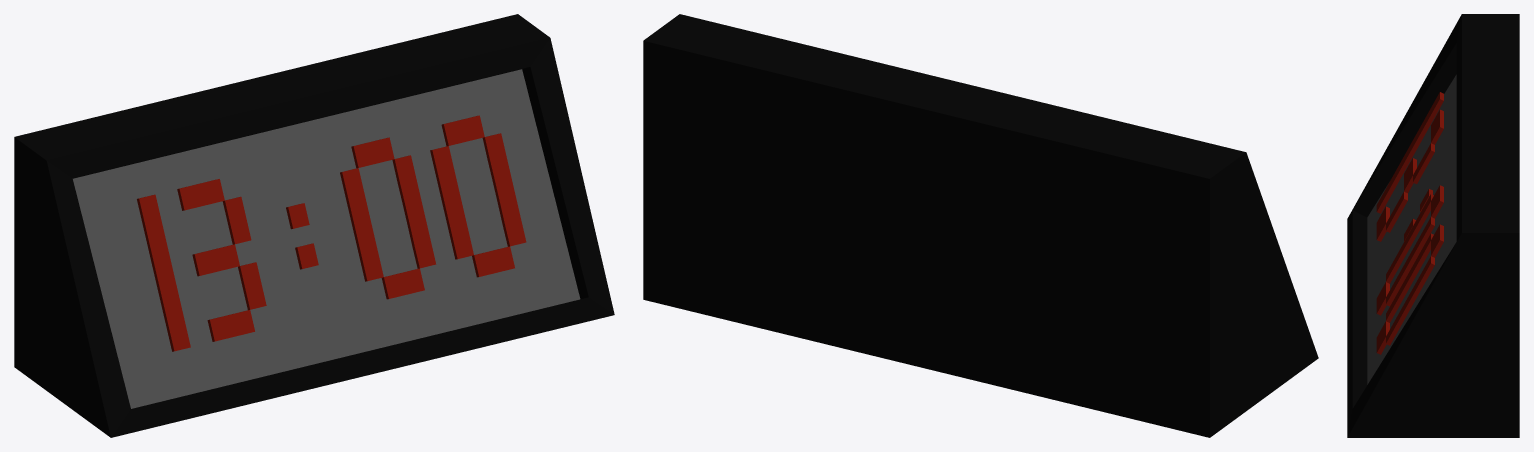
Rendered from hodiny.fbx.
3 renders of one model, left to right at view 1: azimuth 30°, elevation 25°; view 2: azimuth 150°, elevation 25°; view 3: azimuth 270°, elevation 25°, orthographic. The views are drawn at different scales.
Parts seen in each view (by area): view 1: Cube; view 2: Cube; view 3: Cube.
Part boxes in pixels (x1,y1,x2,y2): Cube: (14, 14, 614, 437); Cube: (643, 14, 1318, 437); Cube: (1347, 14, 1519, 437).
Size of the model in its own units: 17.29 by 7.55 by 5.75.
